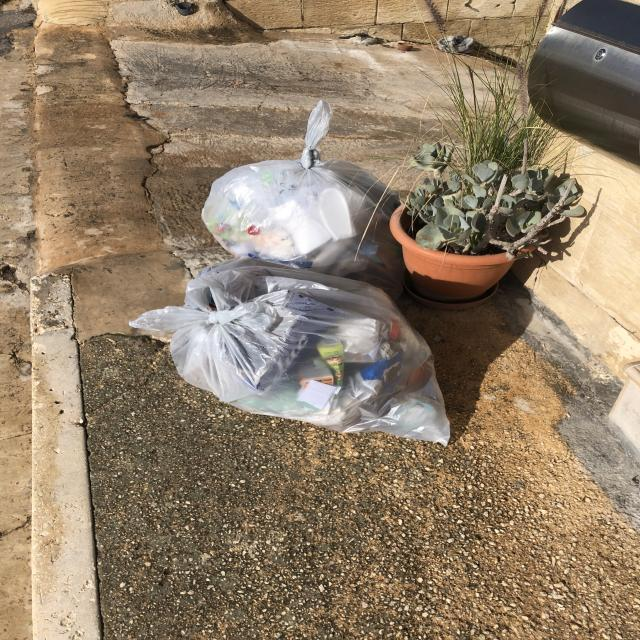Other: (429, 29, 479, 57)
Recycled Waste -Grey or Green Bag-: (127, 261, 463, 457), (194, 93, 399, 289)
